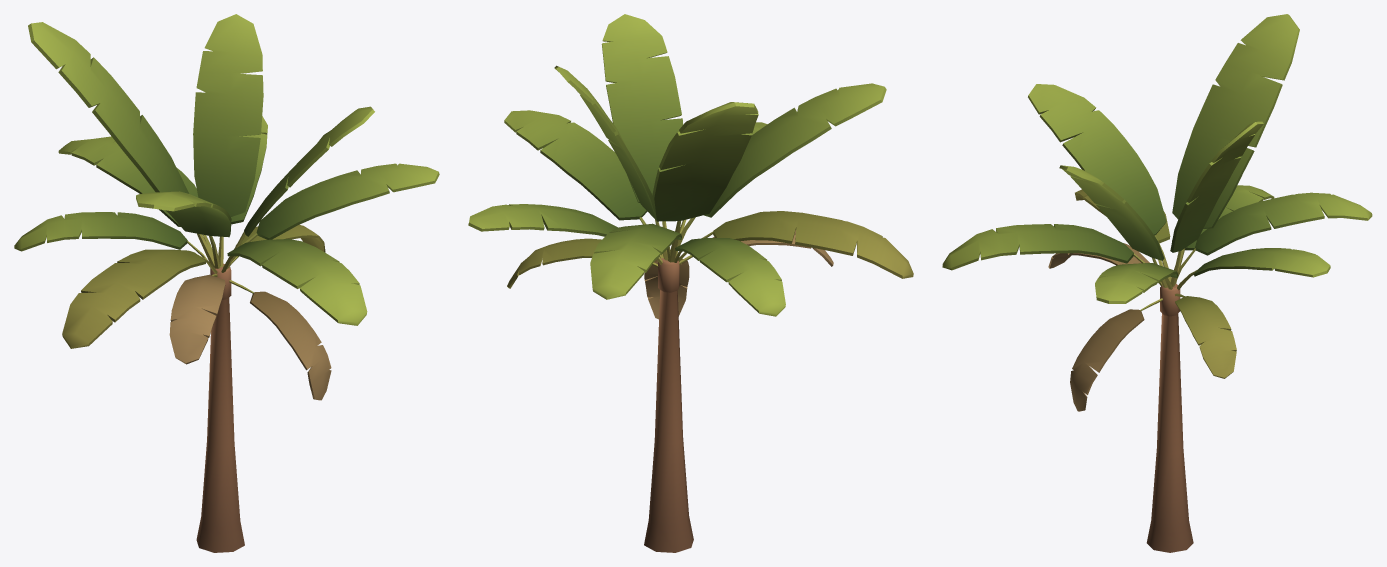
File: BananaTree_02.fbx
3 renders of one model, left to right at view 1: azimuth 30°, elevation 25°; view 2: azimuth 150°, elevation 25°; view 3: azimuth 270°, elevation 25°, orthographic. The views are drawn at different scales.
Parts seen in each view (by area): view 1: BananaTree_02_LOD0; view 2: BananaTree_02_LOD0; view 3: BananaTree_02_LOD0.
Boxes of the visible parts, bbox=[...] form: BananaTree_02_LOD0: bbox=[14, 14, 439, 552]; BananaTree_02_LOD0: bbox=[468, 14, 913, 552]; BananaTree_02_LOD0: bbox=[942, 14, 1372, 552].
Size of what is drawn, in the model's own units: 2.27 by 2.88 by 2.38.
